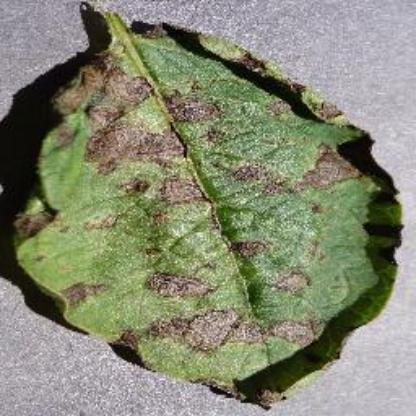Early-Blight: (11, 9, 391, 404)
